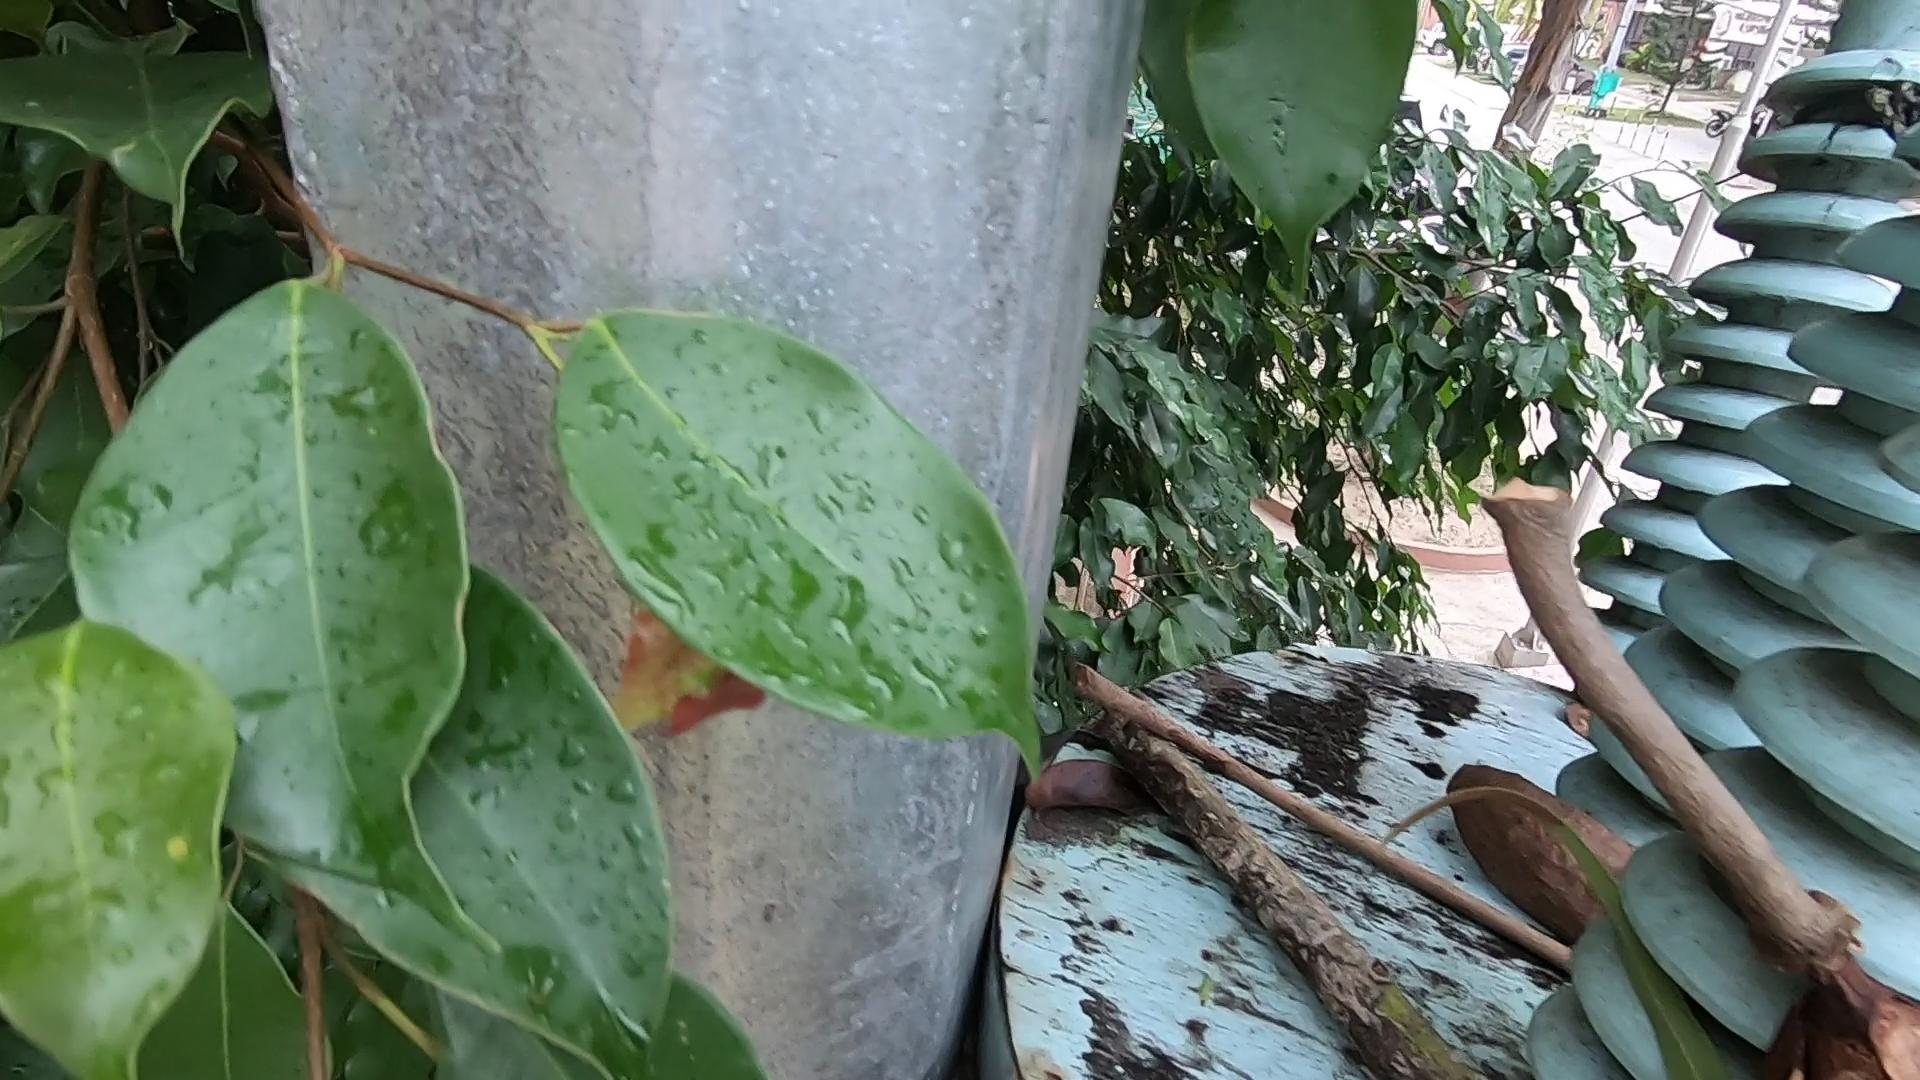branch with leaves: (1478, 388, 1840, 945), (1089, 692, 1493, 1067)
leaf: (1018, 752, 1199, 844)
mahogany fruit: (1425, 723, 1676, 975), (1770, 901, 1882, 1080)
tree branch: (1081, 661, 1585, 944)
